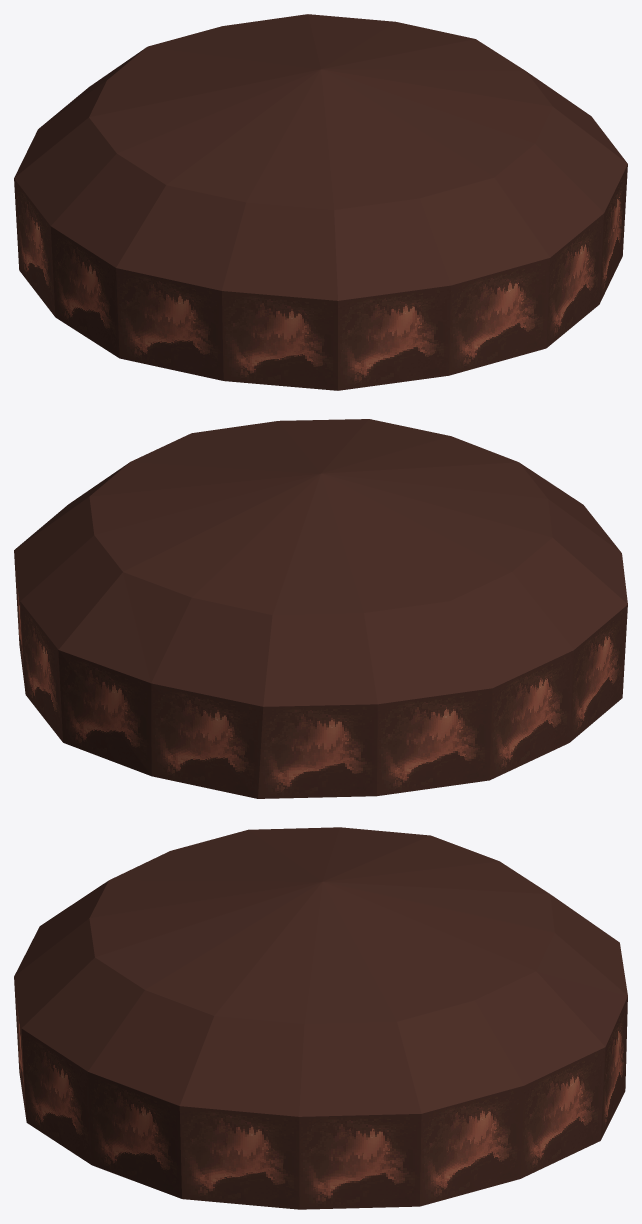
3 renders of one model, top to bottom at view 1: azimuth 30°, elevation 25°; view 2: azimuth 150°, elevation 25°; view 3: azimuth 270°, elevation 25°, orthographic. The views are drawn at different scales.
Parts seen in each view (by area): view 1: mesh00; view 2: mesh00; view 3: mesh00.
Part boxes in pixels (bbox=[...]): mesh00: bbox=[14, 14, 627, 390]; mesh00: bbox=[14, 419, 627, 798]; mesh00: bbox=[14, 827, 627, 1209].
Size of the model in its own units: 95623 by 53853 by 95226.
